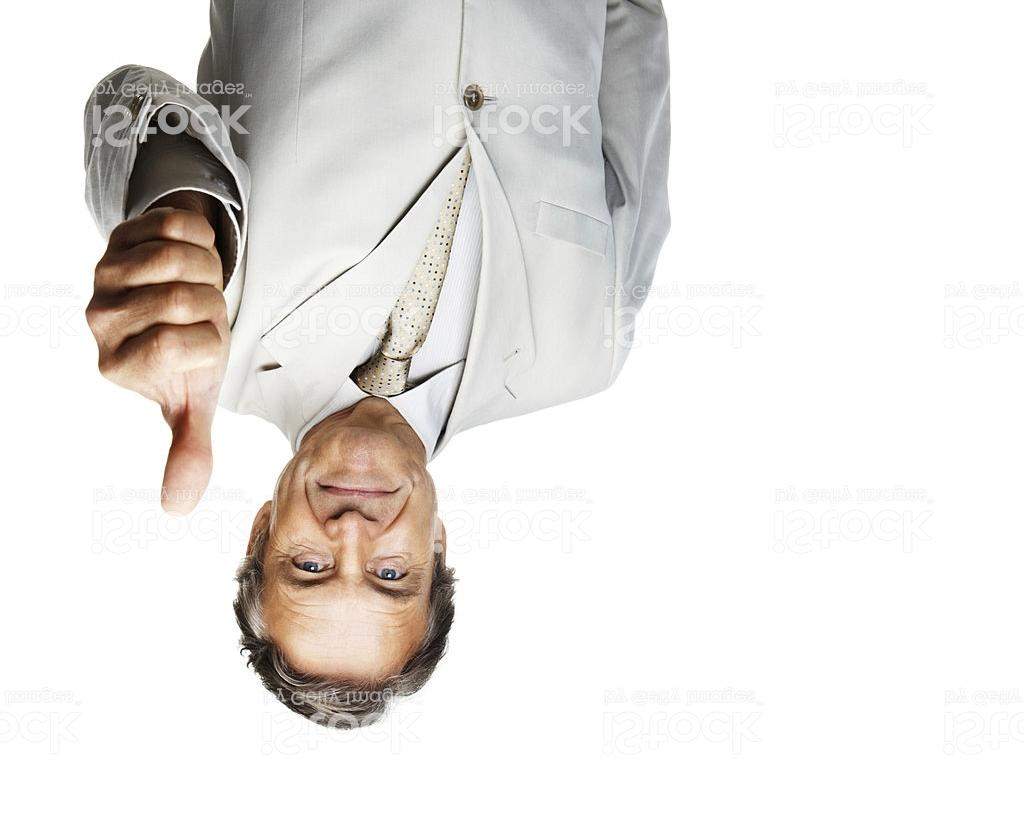thumbsdown: (83, 207, 225, 517)
